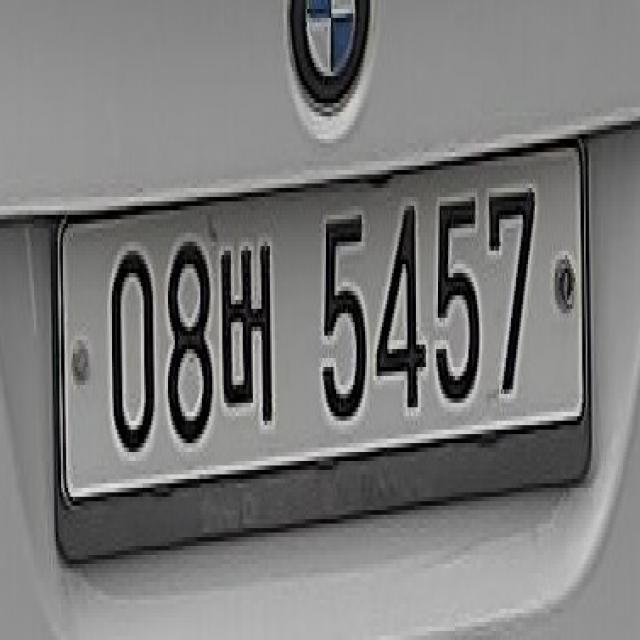0: (107, 229, 163, 469)
4: (374, 192, 428, 438)
5: (319, 196, 374, 447), (430, 184, 484, 428)
7: (487, 179, 550, 416)
8: (164, 220, 214, 470)
beo: (220, 202, 290, 449)
license_plate: (48, 121, 609, 552)
